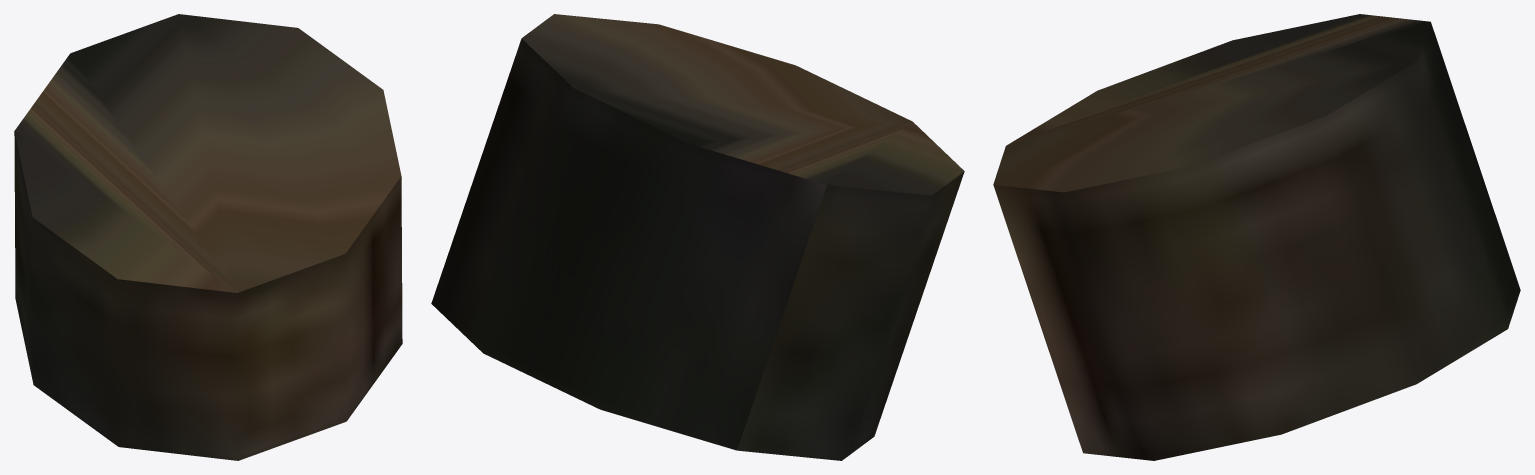
Rendered from prop_flak88_piece3.glb.
3 views of the same model, side by side, from view 1: azimuth 30°, elevation 25°; view 2: azimuth 150°, elevation 25°; view 3: azimuth 270°, elevation 25° (orthographic). The views are drawn at different scales.
Bounding box in the file's own units: 9.45 × 8.02 × 9.64.
1 material, 1 textured.
